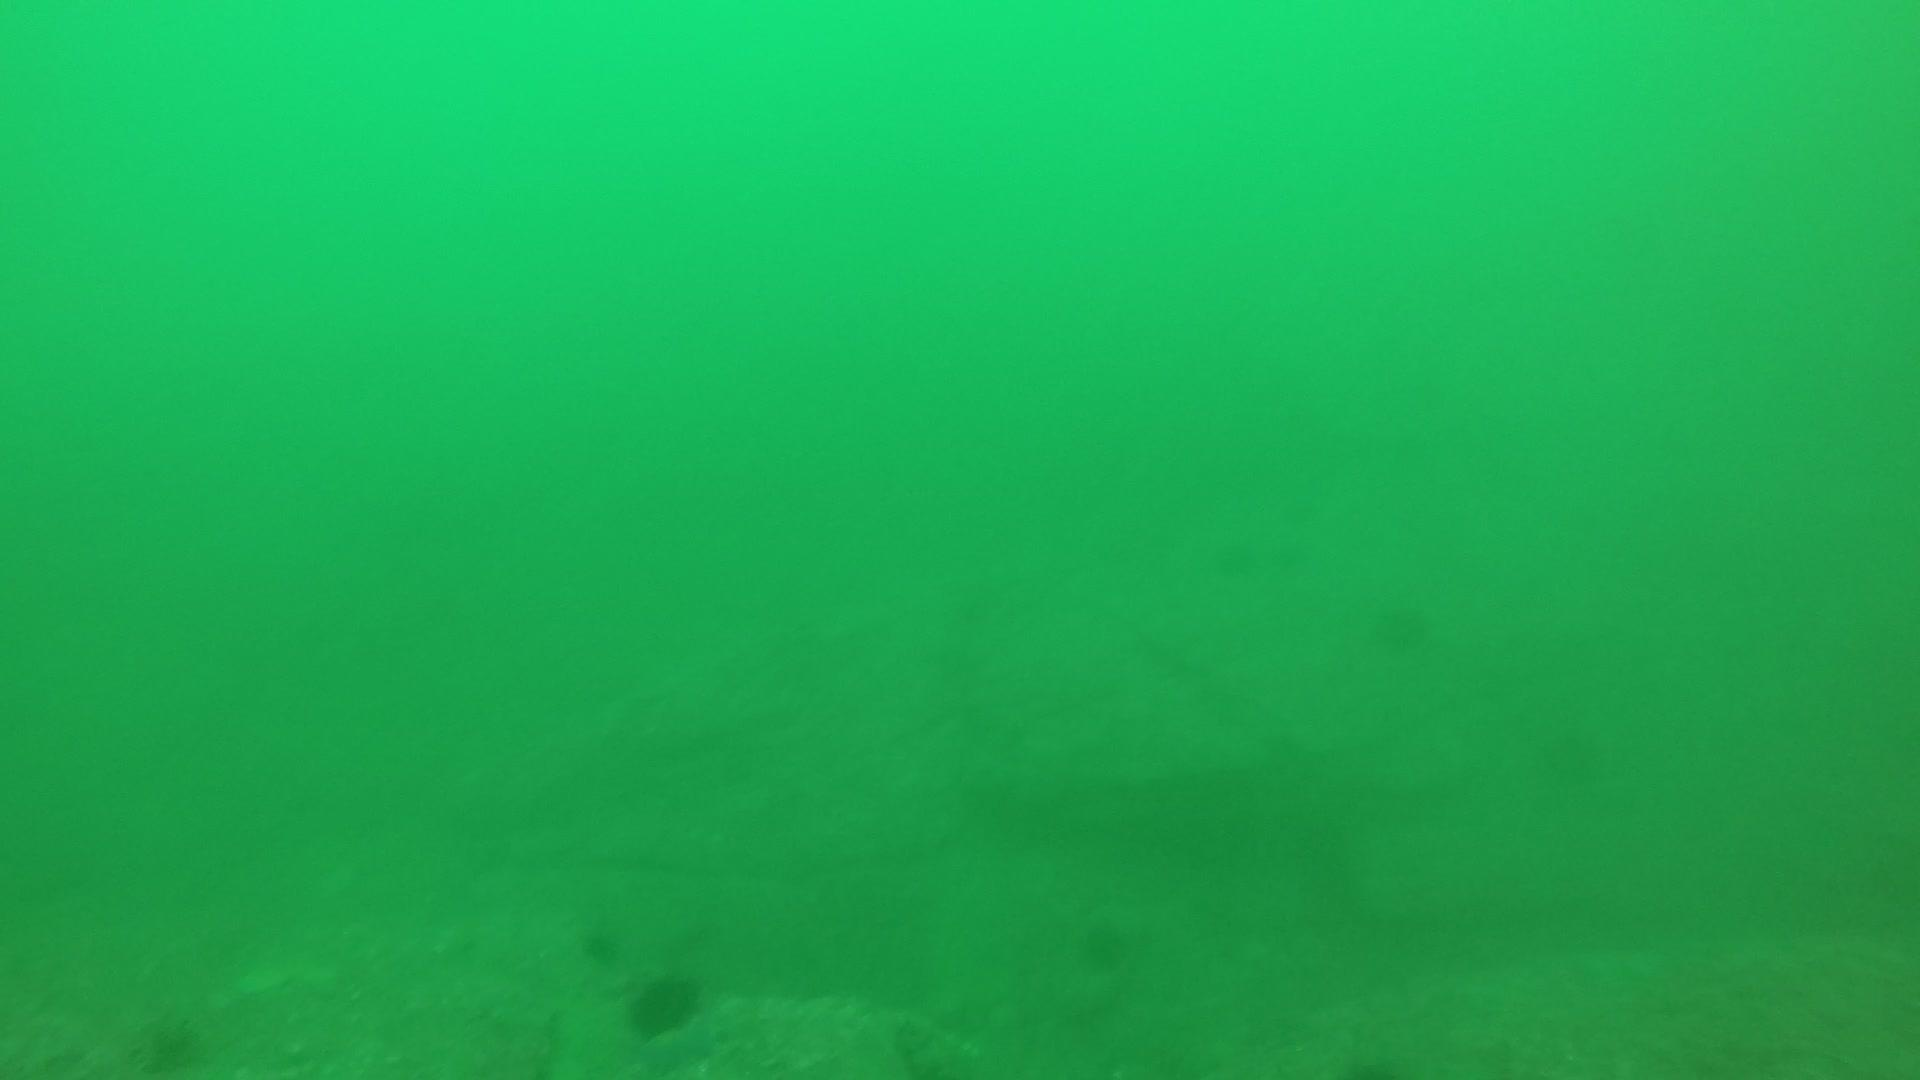echinus: (622, 965, 707, 1040), (128, 1010, 208, 1073), (1366, 589, 1437, 657), (1072, 911, 1139, 975), (575, 916, 626, 968)
starfish: (633, 1019, 723, 1073)
